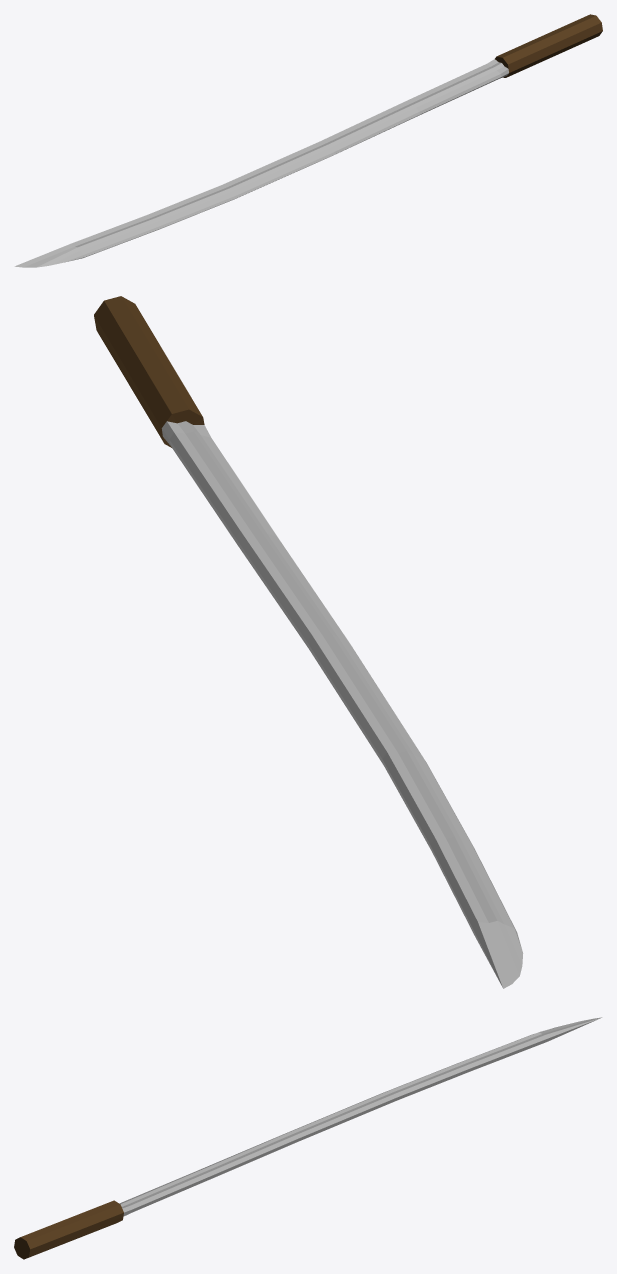
File: Sword(Pickup).fbx
The picture shows the model from 3 angles, top to bottom: view 1: azimuth 90°, elevation 25°; view 2: azimuth 150°, elevation 25°; view 3: azimuth 270°, elevation 25°; orthographic projection. The views are drawn at different scales.
Visible parts, largest first — view 1: Sword; view 2: Sword; view 3: Sword.
Part boxes in pixels (x1,y1,x2,y2): Sword: [14, 14, 602, 267]; Sword: [94, 296, 523, 988]; Sword: [14, 1017, 602, 1259].
Bounding box in the file's own units: 42.83 × 1.96 × 44.48.
